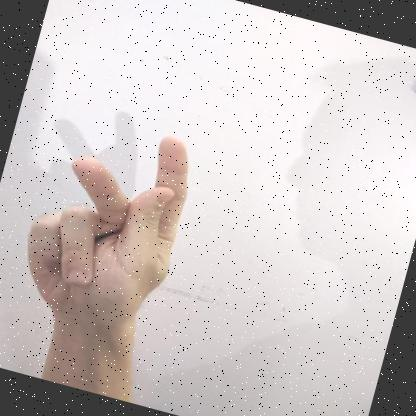K: (27, 136, 187, 342)
